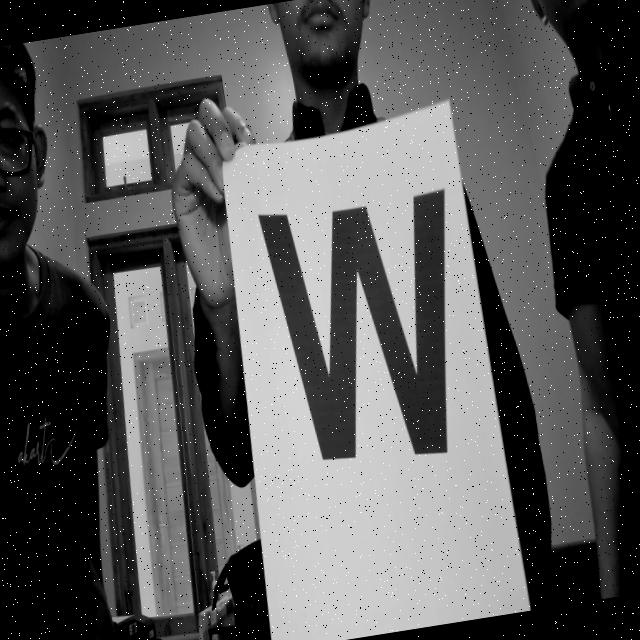w: (238, 161, 492, 490)
